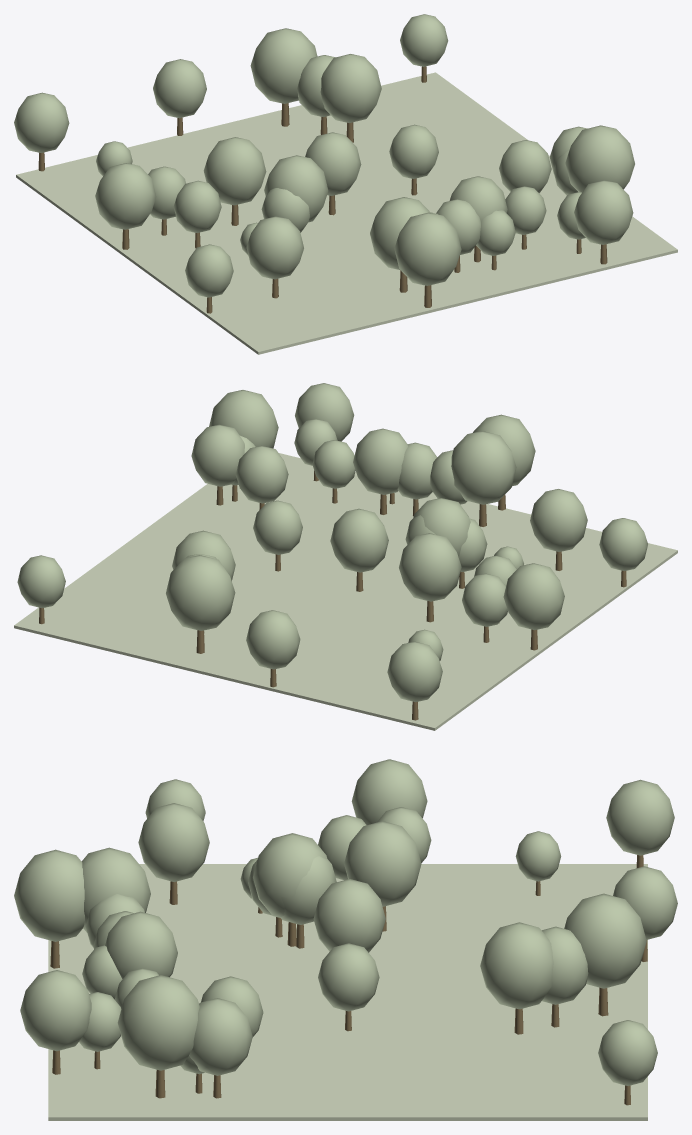
3 renders of one model, top to bottom at view 1: azimuth 30°, elevation 25°; view 2: azimuth 150°, elevation 25°; view 3: azimuth 270°, elevation 25°, orthographic. The views are drawn at different scales.
Parts seen in each view (by area): view 1: terrain, lod-near-2, lod-near-21, lod-near-26, lod-near-20, lod-near-14, lod-near-10, lod-near-8, lod-near-24, lod-near-11, lod-near-27, lod-near-25 (+18 smaller); view 2: terrain, lod-near-21, lod-near-7, lod-near-14, lod-near-10, lod-near-25, lod-near-24, lod-near-5, lod-near-26, lod-near-11, lod-near-28, lod-near-27 (+15 smaller); view 3: terrain, lod-near-26, lod-near-21, lod-near-2, lod-near-20, lod-near-14, lod-near-8, lod-near-24, lod-near-25, lod-near-11, lod-near-28, lod-near-5 (+17 smaller).
Part boxes in pixels (bbox=[...]): terrain: bbox=[16, 72, 677, 354]; lod-near-2: bbox=[394, 212, 461, 285]; lod-near-21: bbox=[250, 28, 317, 103]; lod-near-26: bbox=[565, 125, 634, 192]; lod-near-20: bbox=[320, 54, 381, 122]; lod-near-14: bbox=[203, 137, 266, 205]; lod-near-10: bbox=[95, 163, 156, 229]; lod-near-8: bbox=[574, 180, 633, 244]; lod-near-24: bbox=[246, 216, 303, 279]; lod-near-11: bbox=[14, 92, 69, 152]; lod-near-27: bbox=[153, 59, 206, 118]; lod-near-25: bbox=[305, 132, 361, 195]; terrain: bbox=[14, 453, 677, 730]; lod-near-21: bbox=[166, 555, 235, 630]; lod-near-7: bbox=[451, 431, 516, 504]; lod-near-14: bbox=[399, 533, 461, 601]; lod-near-10: bbox=[503, 563, 564, 630]; lod-near-25: bbox=[330, 508, 388, 572]; lod-near-24: bbox=[530, 489, 587, 551]; lod-near-5: bbox=[353, 428, 407, 494]; lod-near-26: bbox=[209, 390, 278, 448]; lod-near-11: bbox=[387, 641, 442, 702]; lod-near-28: bbox=[191, 424, 244, 486]; lod-near-27: bbox=[246, 610, 300, 669]; terrain: bbox=[48, 864, 647, 1120]; lod-near-26: bbox=[117, 975, 199, 1070]; lod-near-21: bbox=[564, 893, 646, 988]; lod-near-2: bbox=[14, 849, 84, 941]; lod-near-20: bbox=[480, 922, 553, 1009]; lod-near-14: bbox=[344, 821, 421, 906]; lod-near-8: bbox=[20, 970, 91, 1051]; lod-near-24: bbox=[138, 803, 209, 881]; lod-near-25: bbox=[313, 879, 385, 952]; lod-near-11: bbox=[606, 779, 674, 855]; lod-near-28: bbox=[189, 998, 252, 1075]; lod-near-5: bbox=[105, 911, 177, 978].
Size of the model in its own units: 33.72 by 7.28 by 35.44.
